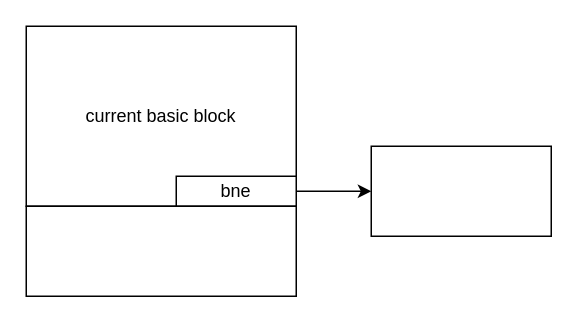
Some shapes in this 578 by 323 pixel diagram are drawn without their labels. The shapes that lost their labels are listed below. From the top down, each one's centre as x and y in pixels, then its label:
At pixel 460 190: "target basic block".
At pixel 160 250: "next basic block".
